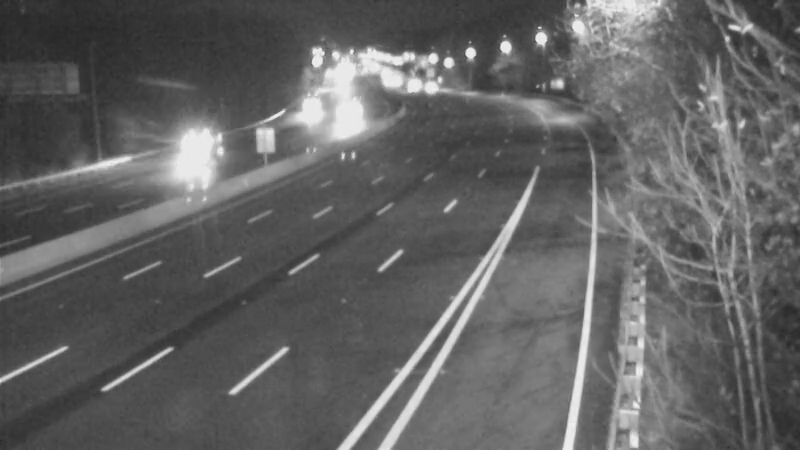vehicle: (151, 123, 231, 203), (327, 87, 377, 137), (289, 81, 339, 131)
